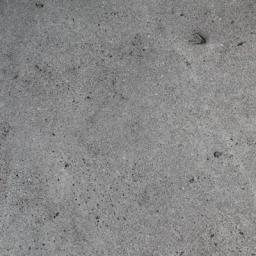FOD: (188, 31, 208, 48)
